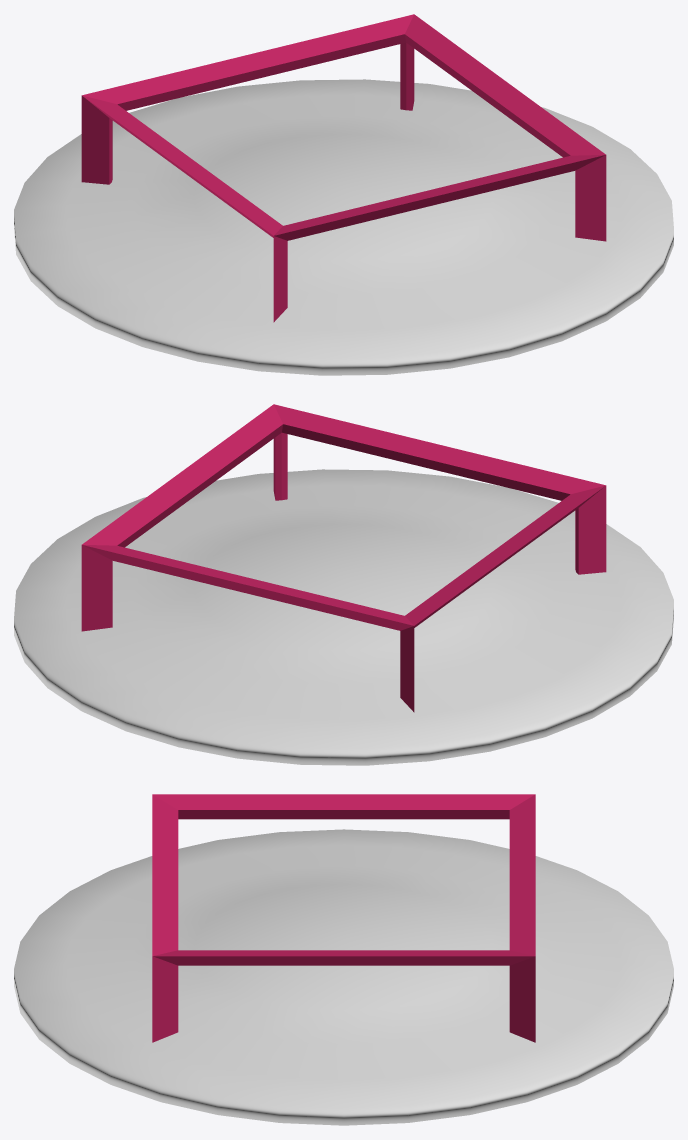
File: HalfModelButton.gltf
3 renders of one model, top to bottom at view 1: azimuth 30°, elevation 25°; view 2: azimuth 150°, elevation 25°; view 3: azimuth 270°, elevation 25°, orthographic.
Parts seen in each view (by area): view 1: Cylinder, Cube; view 2: Cylinder, Cube; view 3: Cylinder, Cube.
Part boxes in pixels (bbox=[...]): Cylinder: bbox=[14, 79, 673, 375]; Cube: bbox=[81, 14, 606, 322]; Cylinder: bbox=[14, 469, 673, 765]; Cube: bbox=[81, 404, 606, 712]; Cylinder: bbox=[14, 829, 673, 1125]; Cube: bbox=[152, 794, 535, 1042].
Size of the model in its own units: 2 by 0.3711 by 2.
